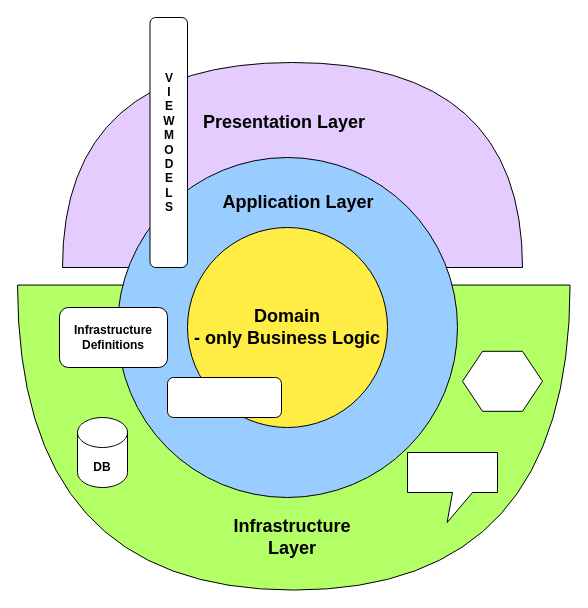
The diagram is 588 pixels wide and 608 high, and some of its shapes have lost their labels. Each missing label, with the centre of its shape:
DOMAN MODELS: the point at 224,397
EMAIL: the point at 452,487
HTTP SERVICES: the point at 502,380
